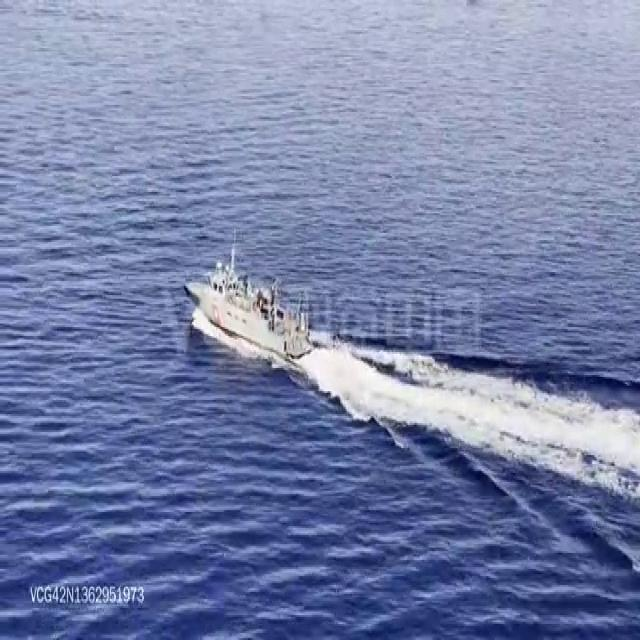houseboat: (185, 248, 312, 358)
